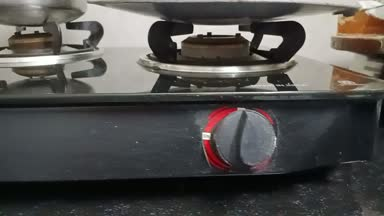noflame_gason: (167, 20, 293, 175)
